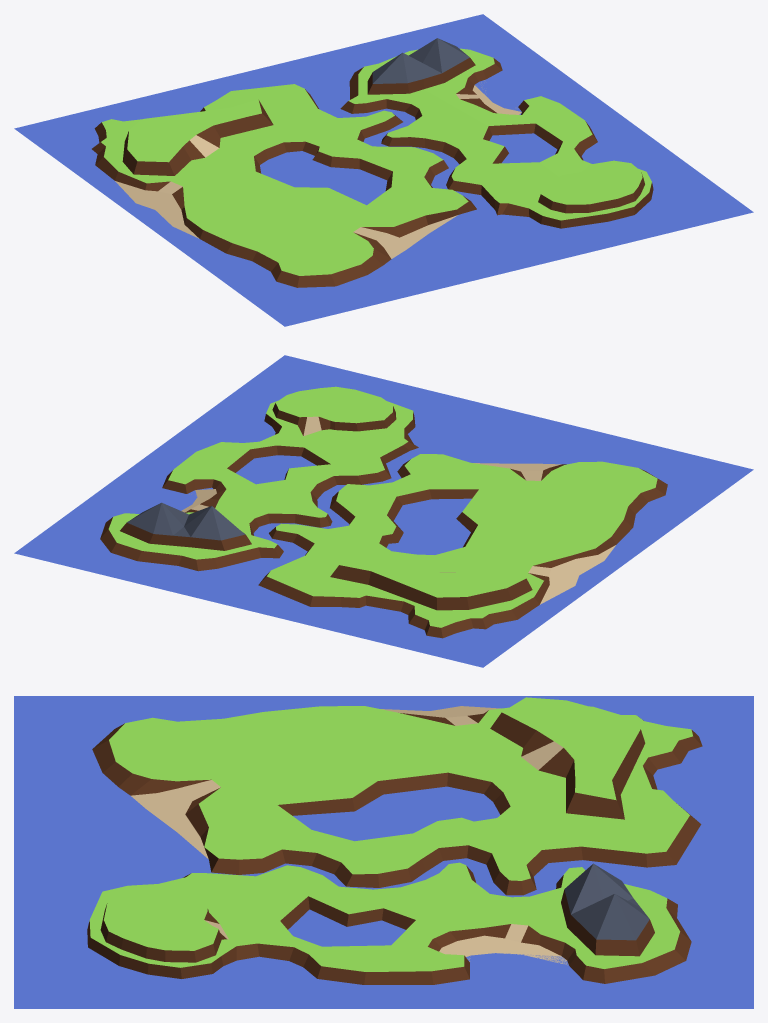
Rendered from terrain3.fbx.
3 views of the same model, one above another, from view 1: azimuth 30°, elevation 25°; view 2: azimuth 150°, elevation 25°; view 3: azimuth 270°, elevation 25° (orthographic). The views are drawn at different scales.
Visible parts, largest first — view 1: Plane; view 2: Plane; view 3: Plane.
Boxes of the visible parts, x1,y1,x2,y2 form: Plane: (14, 14, 753, 326); Plane: (14, 355, 753, 667); Plane: (14, 696, 753, 1008).
Size of the model in its own units: 2000 by 162 by 2000.
